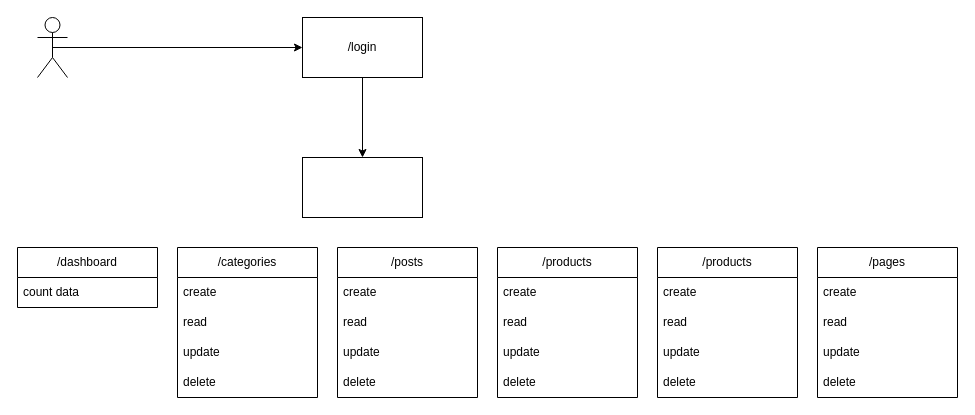
The diagram is 975 pixels wide and 415 high, and some of its shapes have lost their labels. The centre of each missing label's shape, as x and y in pixels:
"account" goes at point (362, 187).
"Admin" goes at point (52, 47).
